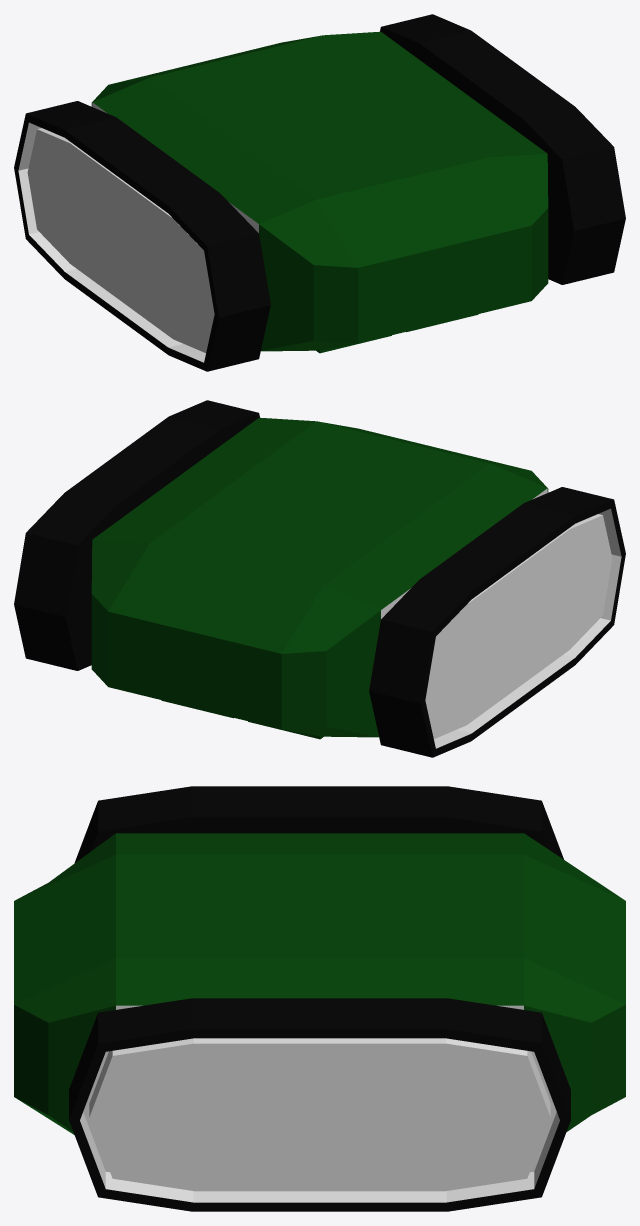
File: tank.fbx
3 views of the same model, one above another, from view 1: azimuth 30°, elevation 25°; view 2: azimuth 150°, elevation 25°; view 3: azimuth 270°, elevation 25° (orthographic). The views are drawn at different scales.
Parts seen in each view (by area): view 1: Cube; view 2: Cube; view 3: Cube.
Boxes of the visible parts, x1,y1,x2,y2 form: Cube: (14,14,625,371); Cube: (14,400,625,757); Cube: (14,786,625,1211).
Bounding box in the file's own units: 564 × 225 × 600.
